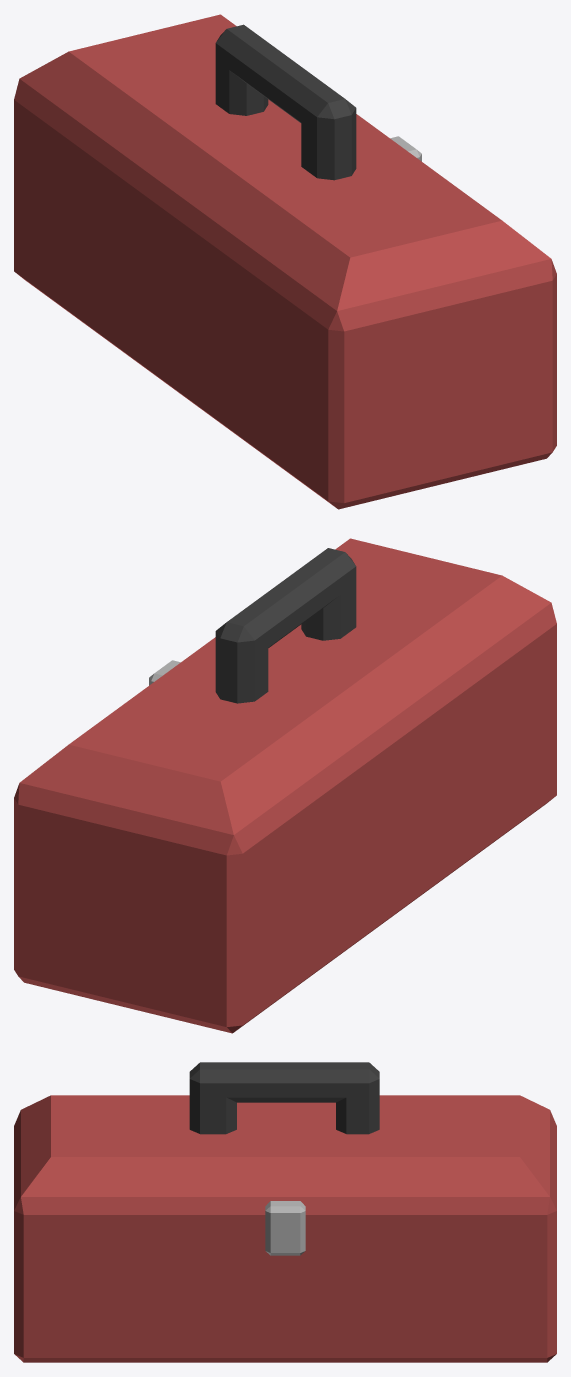
Rendered from Toolbox.fbx.
The picture shows the model from 3 angles, top to bottom: view 1: azimuth 30°, elevation 25°; view 2: azimuth 150°, elevation 25°; view 3: azimuth 270°, elevation 25°; orthographic projection. The views are drawn at different scales.
Visible parts, largest first — view 1: Toolbox; view 2: Toolbox; view 3: Toolbox.
Boxes of the visible parts, box(x1,y1,x2,y2) form: Toolbox: box(14, 14, 556, 509); Toolbox: box(14, 538, 556, 1033); Toolbox: box(14, 1062, 556, 1362).
Bounding box in the file's own units: 28.7 × 34.65 × 66.98.
